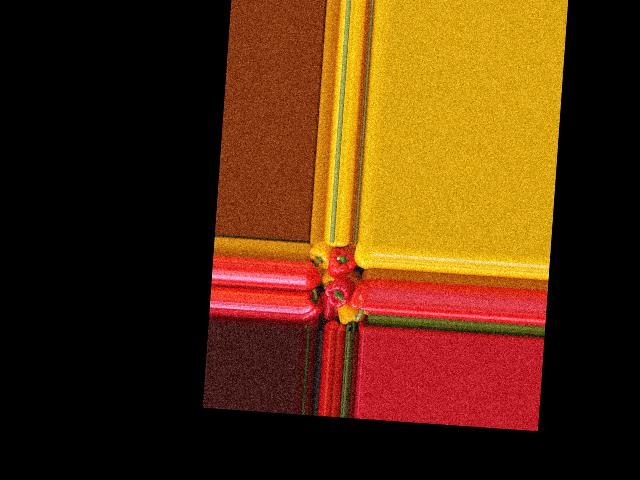bell_pepper: (310, 240, 334, 266)
